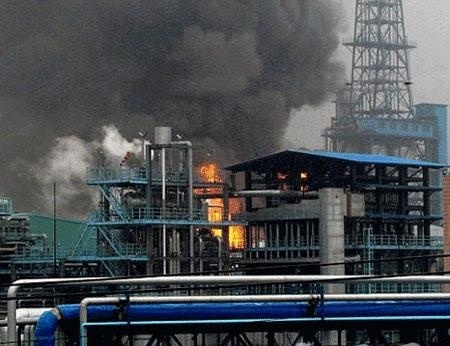fire: (198, 163, 248, 247)
